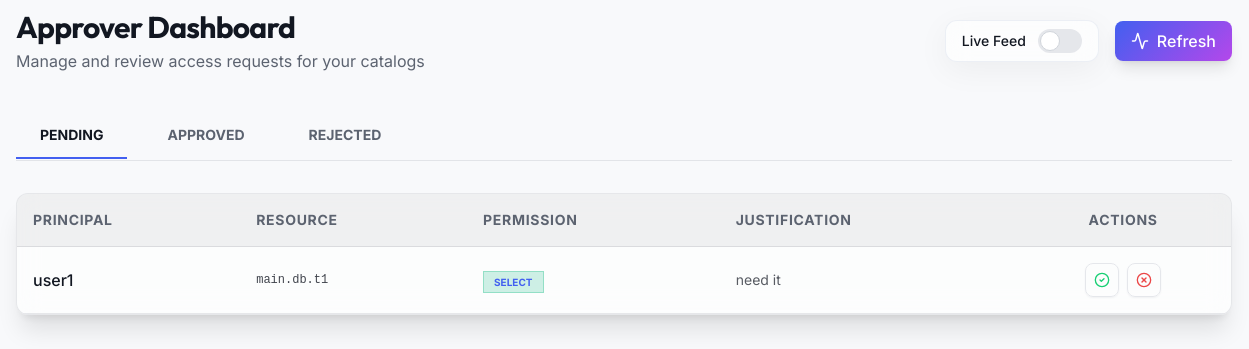
Test case: ApproverDashboard › filters by status tabs
Expected: the text "user1" is shown, 17,246 -> 240,314
Click the button "APPROVED".
click(206, 136)  # box 144,113 -> 269,159
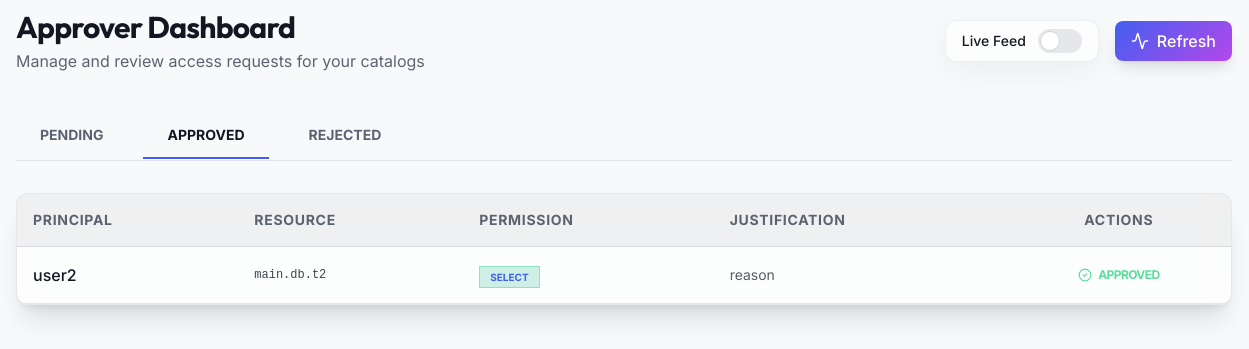
Expected: the text "user2" is shown, 17,246 -> 238,304
Expected: the text "user1" is gone
